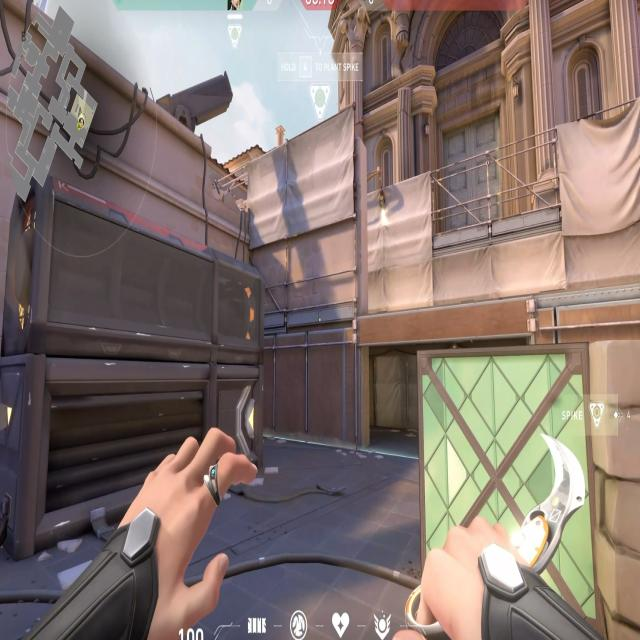A_Heaven_Wall: (225, 94, 387, 330)
A_Hell: (341, 289, 558, 459)
